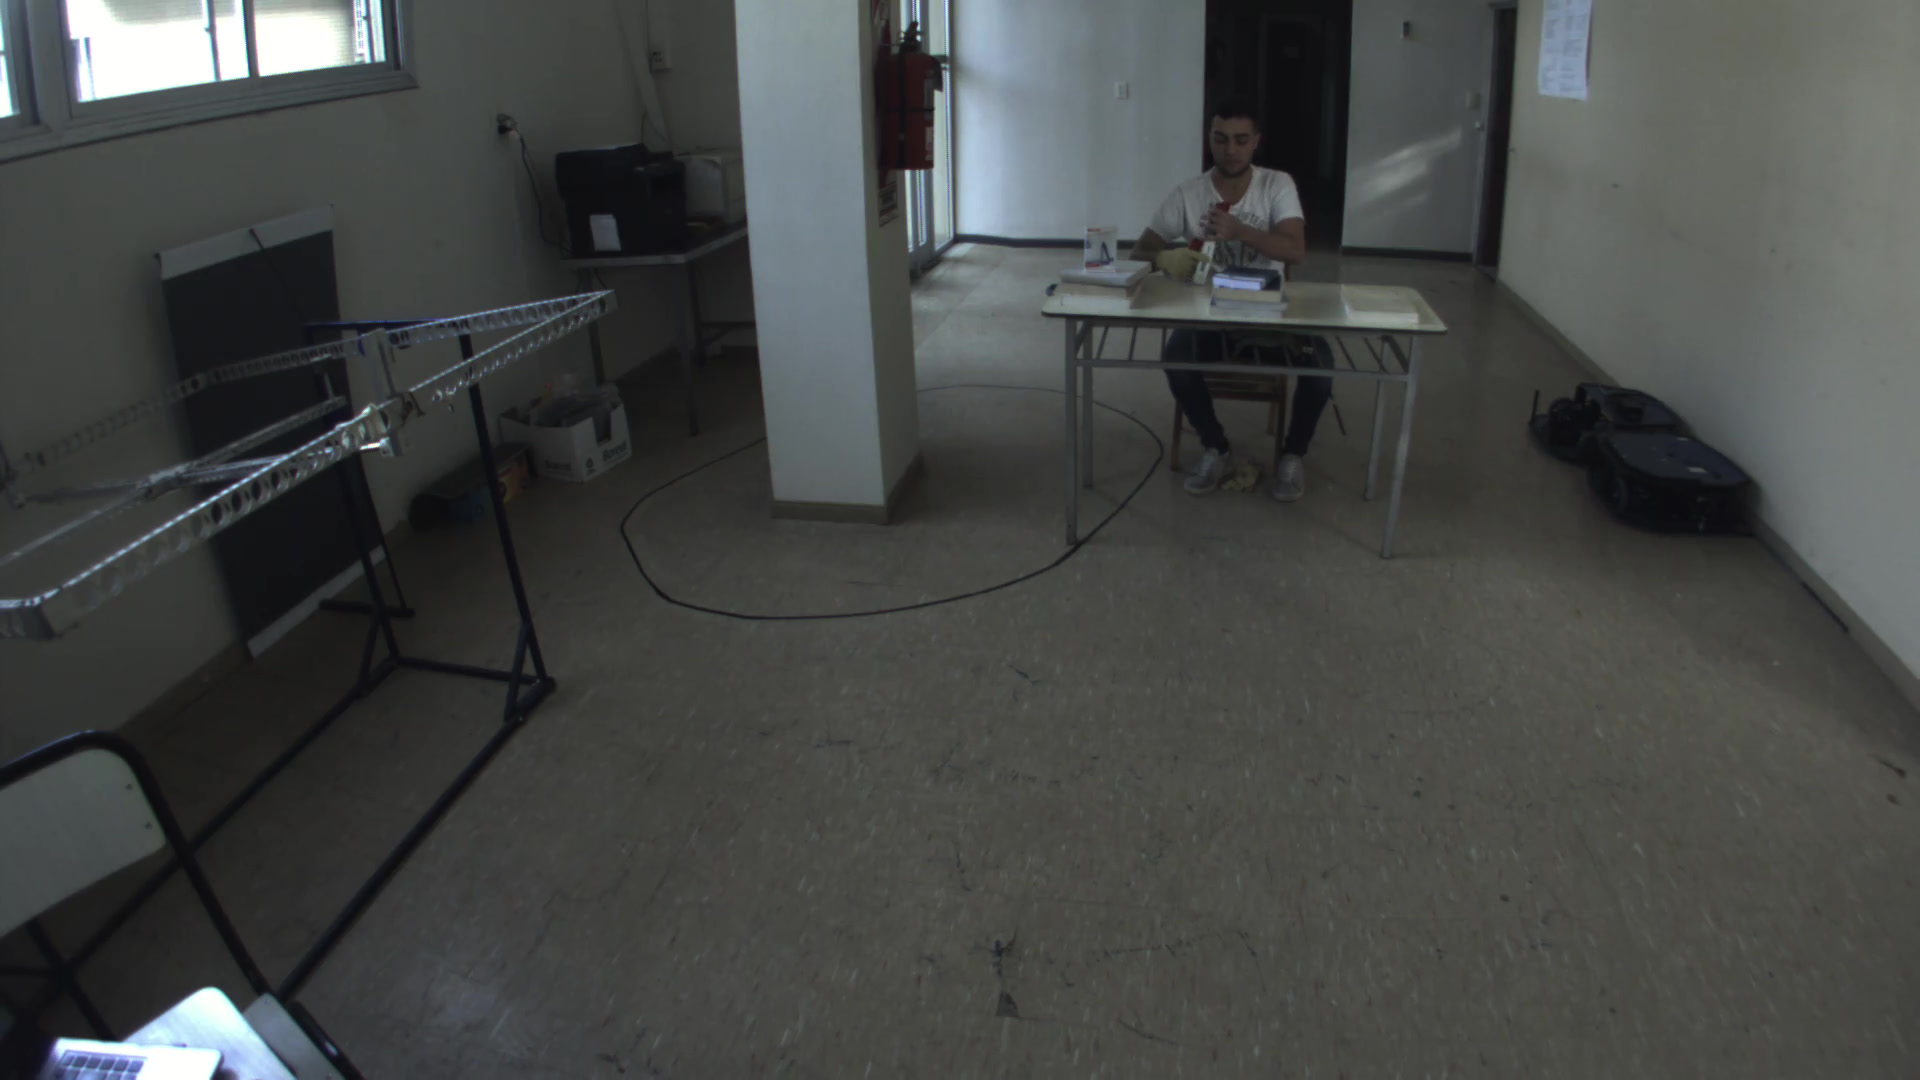hand: (1155, 241, 1218, 285), (1192, 199, 1246, 249)
